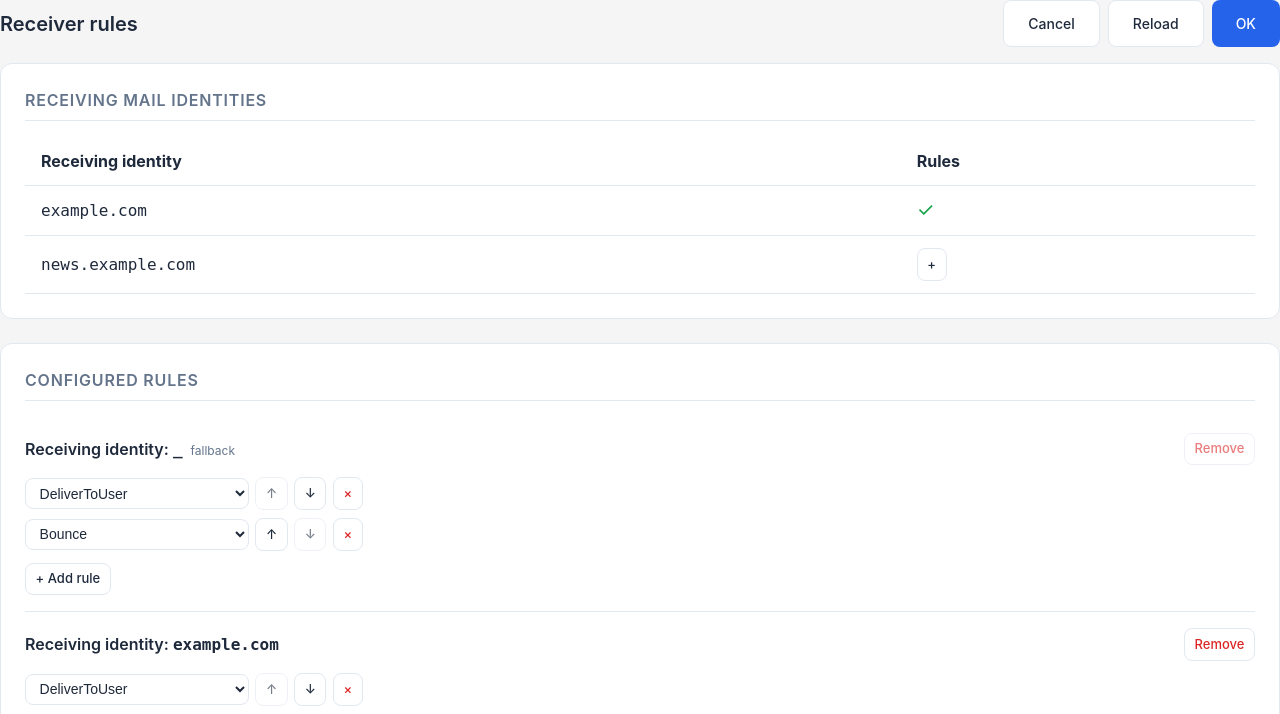
Receiver rules editor › removes a configured identity after confirmation and shows its plus again
Click the 2nd button titled "Remove rules for example.com" at [1219, 645], box [1184,628,1255,661]
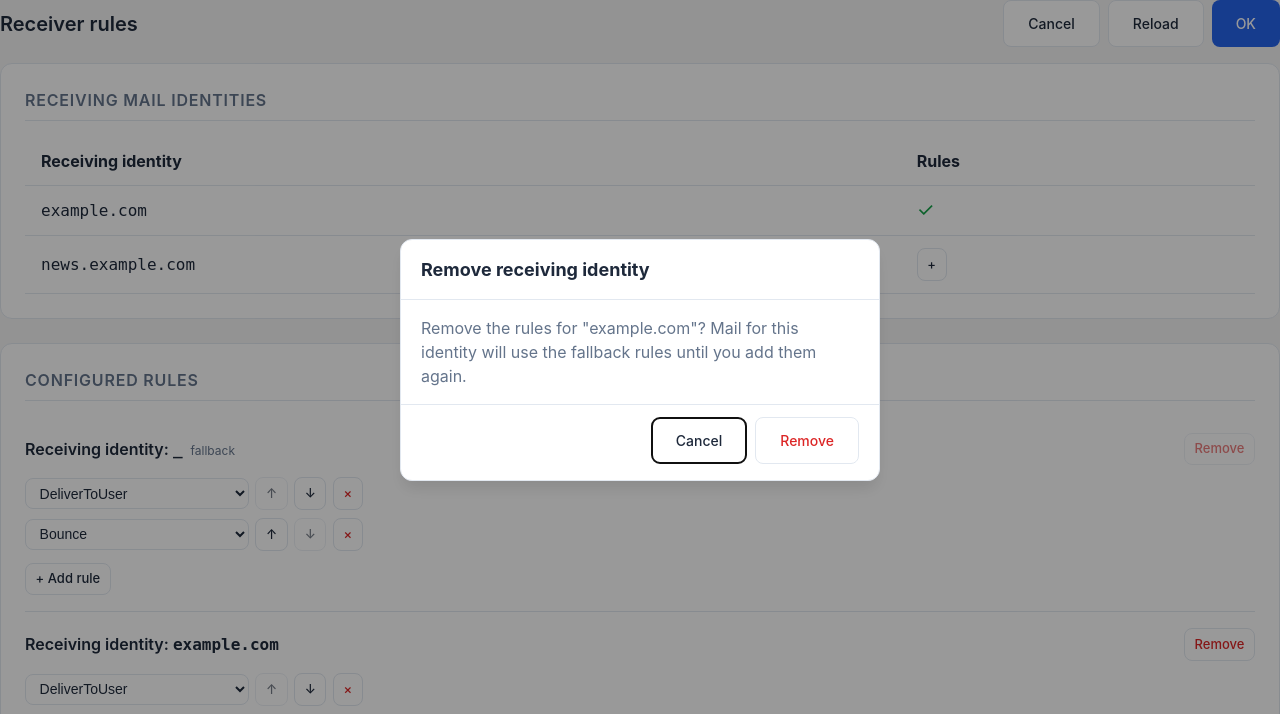
Check: the dialog shows "example.com", box [421,318,816,386]
Click the button "Remove" at [807, 440], box [755,417,859,464]
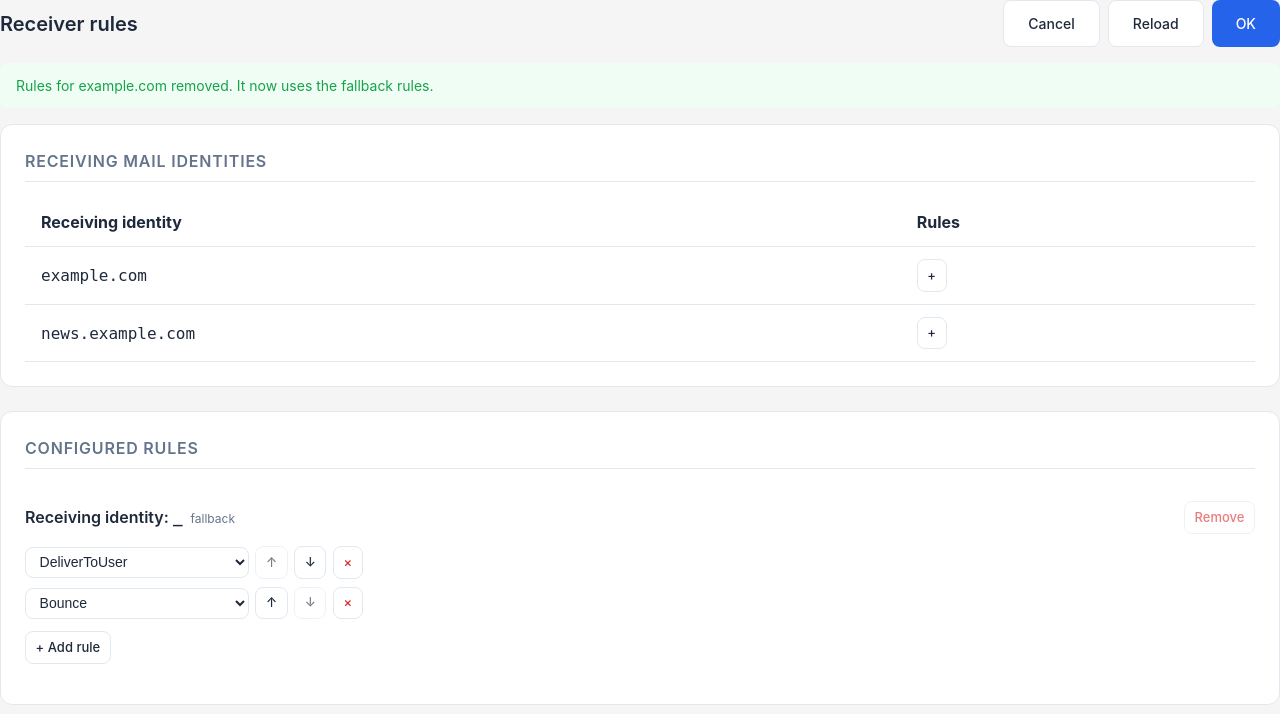
Check: the 1st button titled "Add rules for example.com" is shown, box [917,259,947,292]
Check: the dialog is gone
Check: the number of elements with class "receiver-domain" is 1, box [25,485,1255,680]
